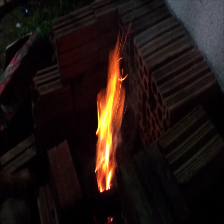fire_h: (96, 35, 125, 191)
fire_l: (108, 217, 113, 222)
